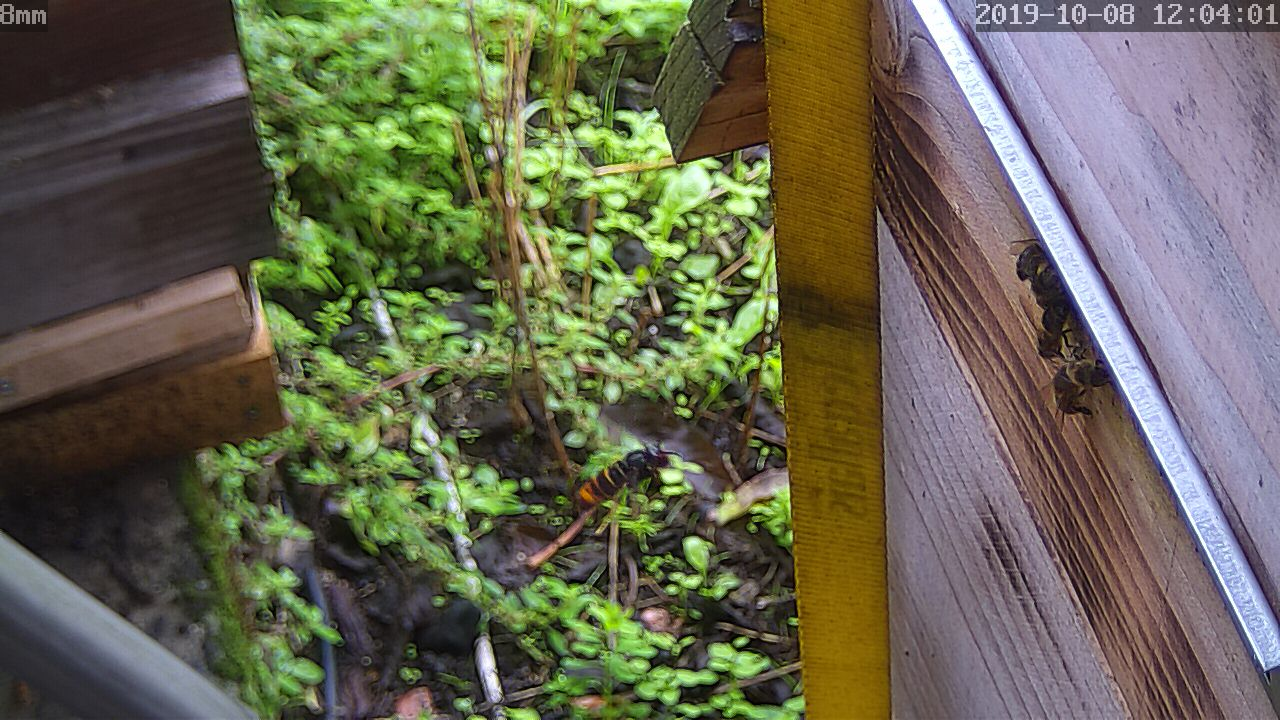bee: (997, 224, 1071, 332), (1038, 351, 1101, 420)
hornet: (573, 438, 669, 517)
